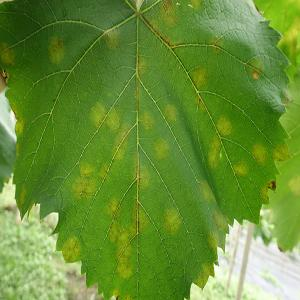Folha: (0, 0, 292, 298)
Fungo: (108, 201, 149, 281), (108, 102, 129, 162), (71, 162, 97, 200), (131, 152, 148, 195), (61, 236, 81, 264), (163, 207, 182, 235), (159, 0, 178, 28), (47, 36, 65, 65), (91, 94, 105, 130), (188, 65, 208, 89), (246, 56, 264, 80), (153, 136, 169, 162), (103, 27, 120, 51), (214, 116, 232, 138), (272, 140, 290, 162), (138, 110, 154, 132), (251, 142, 267, 164), (106, 196, 122, 218), (0, 42, 14, 66), (163, 103, 179, 123), (232, 160, 248, 177), (79, 162, 94, 177), (100, 160, 108, 180), (252, 70, 260, 80)
